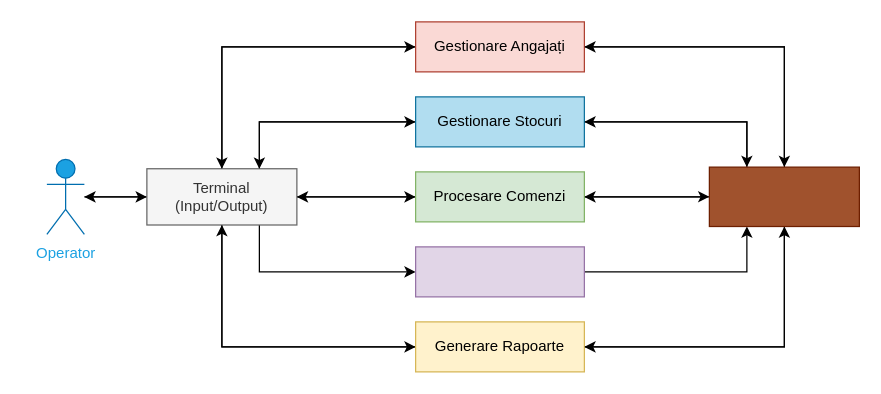
The diagram is 881 pixels wide and 394 high, and some of its shapes have lost their labels. Each missing label, with the centre of its shape:
"Bază de Date (Fișiere CSV)" goes at pixel 783 196.
"Planificare Evenimente" goes at pixel 499 271.
